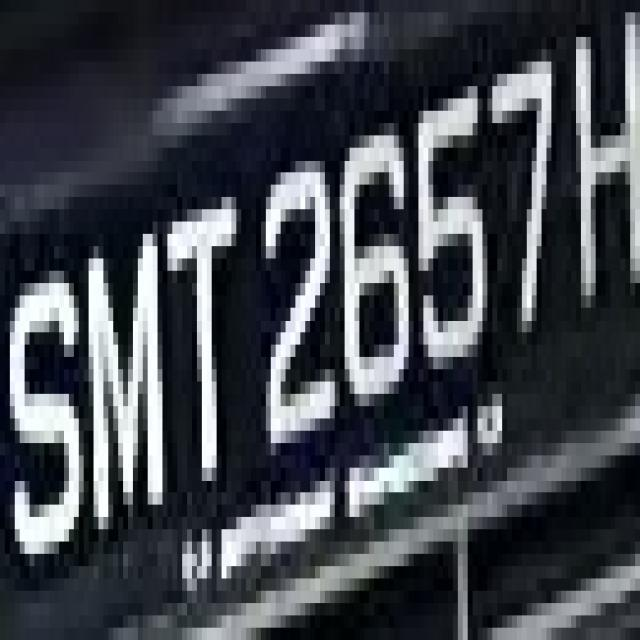2: (246, 123, 330, 492)
5: (394, 61, 492, 382)
6: (340, 74, 423, 455)
7: (482, 25, 562, 357)
H: (4, 0, 5, 6)
M: (74, 197, 177, 517)
S: (5, 197, 84, 591)
T: (143, 172, 251, 505)
